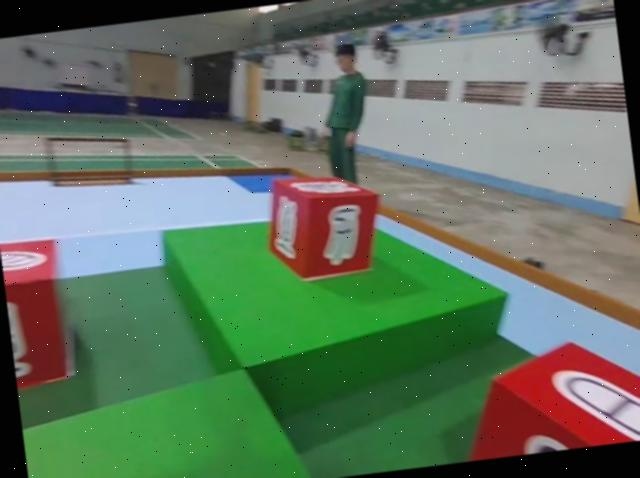R2 Fake: (450, 332, 640, 462), (261, 166, 388, 285), (0, 236, 70, 391)
